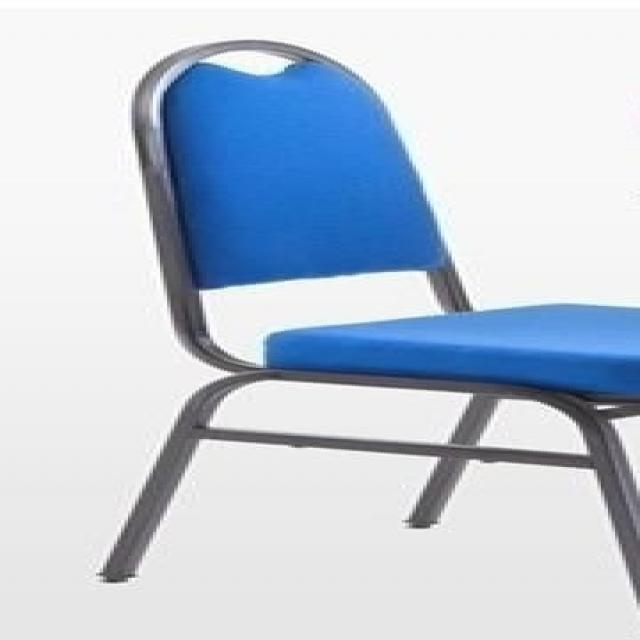Chair: (92, 34, 640, 594)
